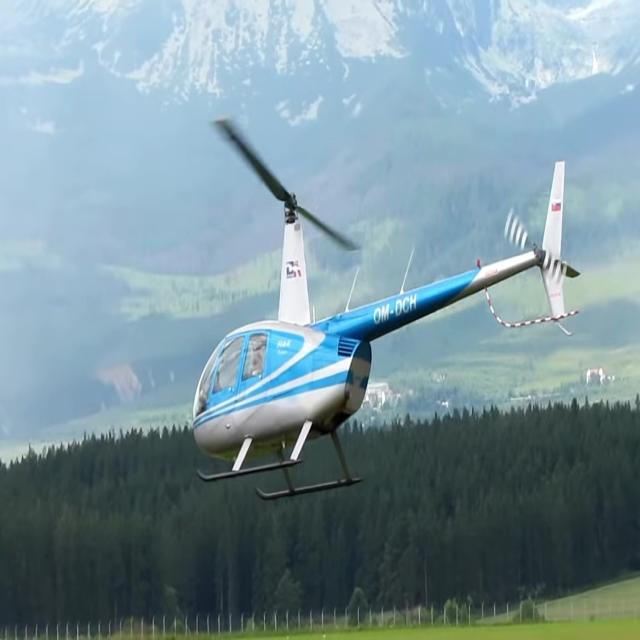CIV_HELO: (192, 158, 580, 503)
